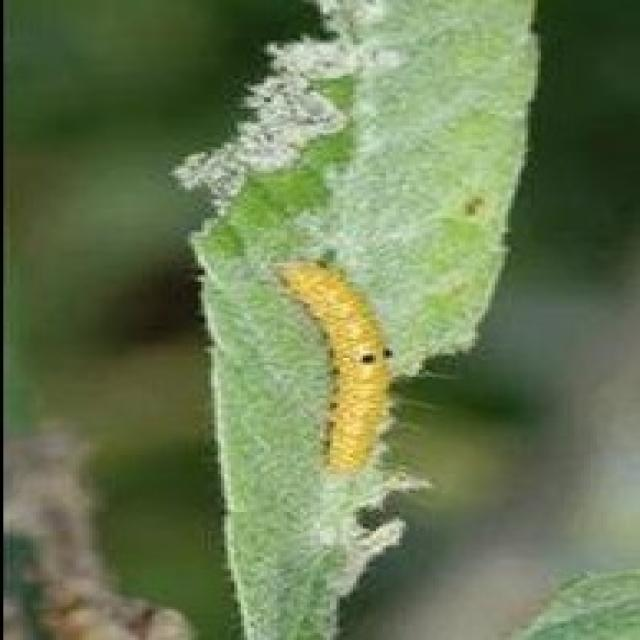peach borer: (286, 251, 402, 481)
